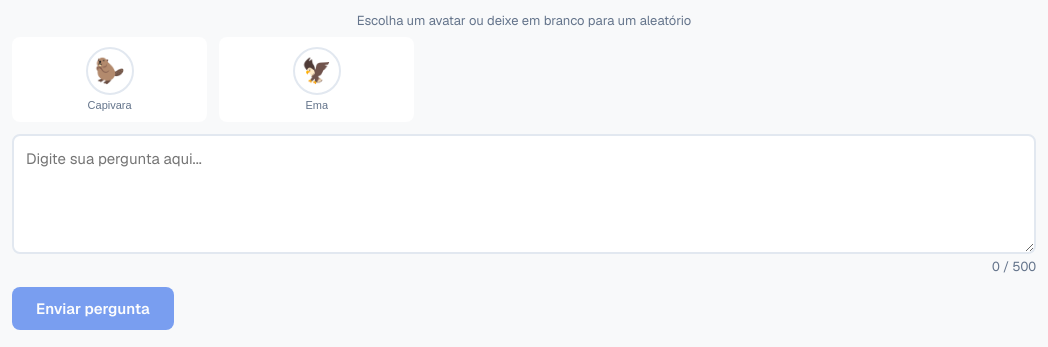
it: QuestionForm › should show submitting state while sending
Type "Valid question text" into the text box named "Texto da pergunta" at (524, 194), box [12,134,1036,254]
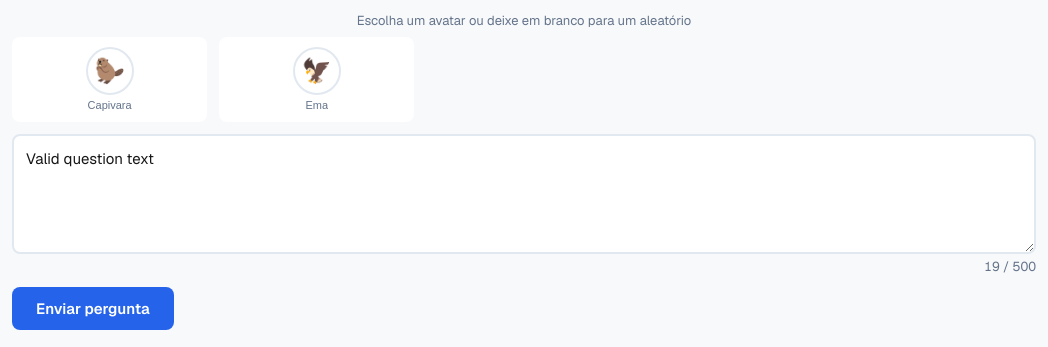
Click the button "Enviar pergunta" at (93, 309), box [12,287,174,330]
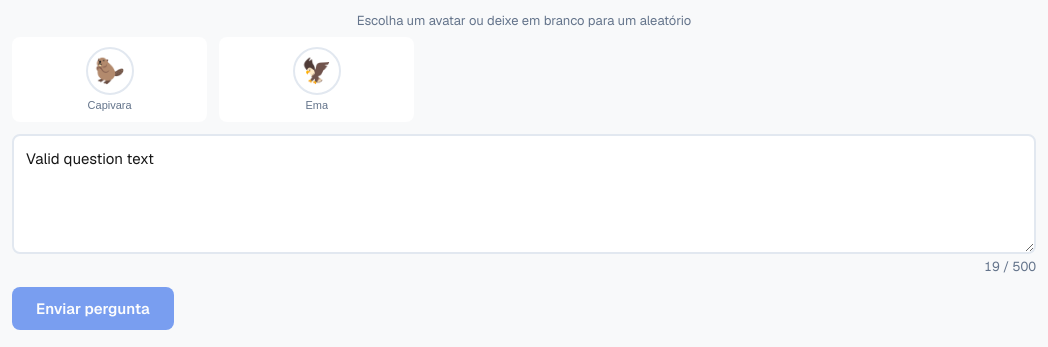
expect the button named "enviando" is disabled: met, box [12,287,174,330]
